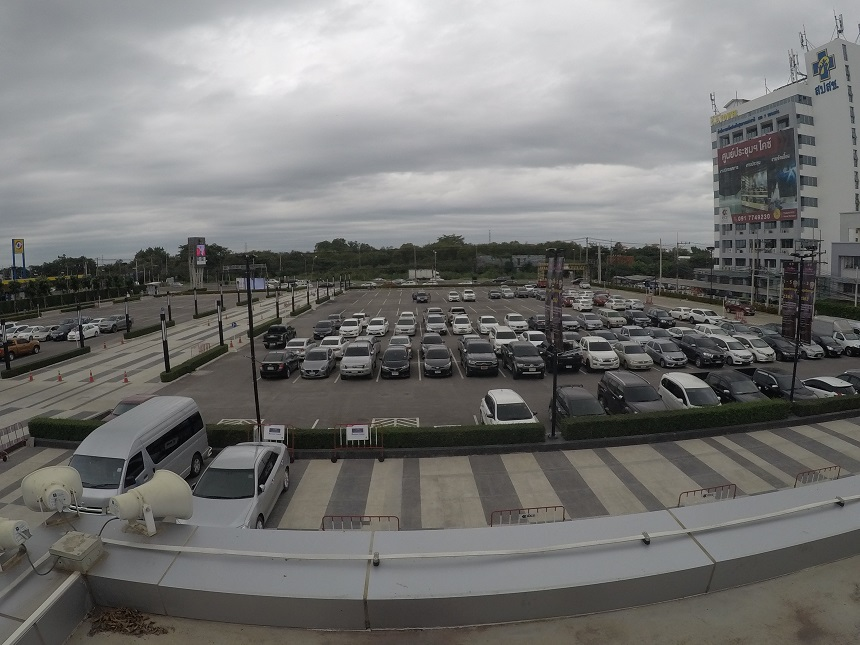busy: (98, 424, 184, 483), (208, 457, 281, 510), (482, 393, 535, 423), (607, 376, 652, 411), (669, 379, 711, 407), (556, 388, 596, 414), (719, 374, 757, 399), (339, 355, 375, 380), (418, 354, 457, 377), (381, 355, 414, 381), (770, 372, 803, 396), (259, 354, 289, 379), (299, 358, 333, 380), (808, 378, 848, 396), (464, 356, 501, 375), (111, 399, 146, 419), (552, 351, 581, 373), (516, 356, 546, 377), (697, 345, 725, 365), (661, 347, 689, 366), (627, 350, 654, 369), (731, 347, 754, 365), (591, 352, 614, 369), (757, 345, 775, 361), (827, 339, 843, 356), (803, 344, 821, 359), (780, 346, 799, 360)
